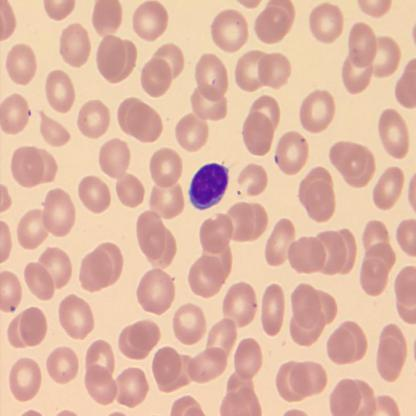Lymphocyte: (189, 162, 231, 210)
